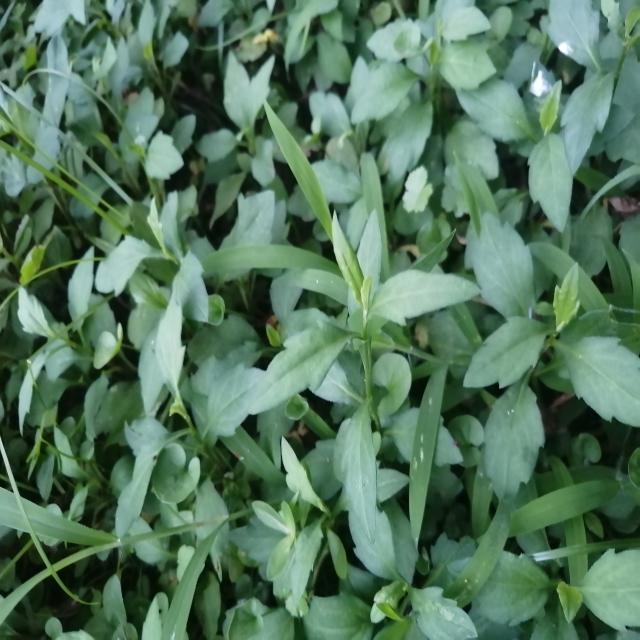Indian aster: (459, 201, 632, 493), (259, 238, 413, 561)
